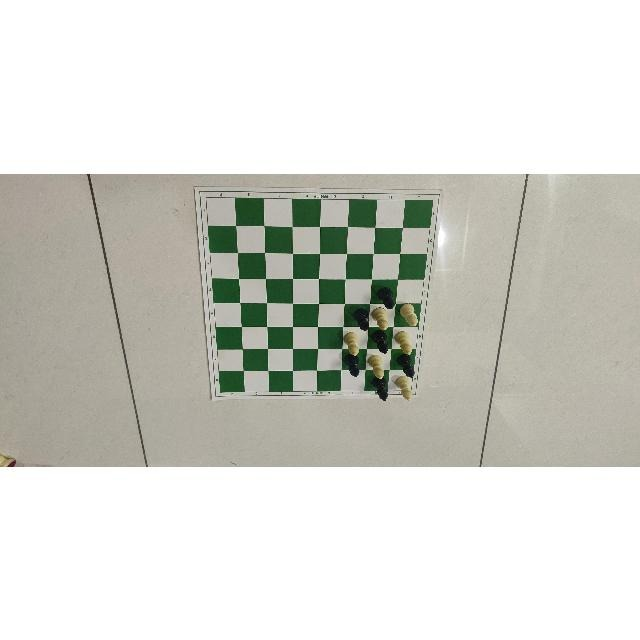black-bishop: (367, 372, 393, 403), (391, 355, 419, 379), (368, 327, 393, 353), (338, 353, 363, 377), (374, 284, 396, 311), (350, 307, 372, 332)
white-bishop: (393, 372, 414, 402), (370, 304, 391, 332), (340, 331, 364, 355), (398, 303, 421, 328), (395, 330, 417, 356), (368, 354, 388, 380)
